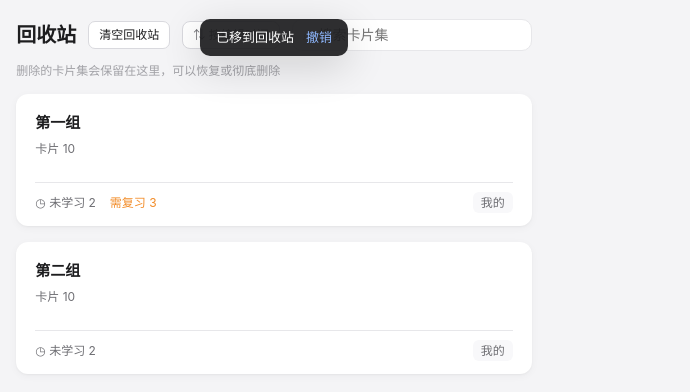
首页 › 回收站里点卡片弹出恢复 / 彻底删除
The image size is (690, 392).
Expected: the text "第一组" is shown, [35,113,80,132]
Click the element with class "deck-card" showing "第一组 卡片 10 ◷ 未学习 2 需复习 3 我的": {"x": 274, "y": 160} [16,94,532,226]
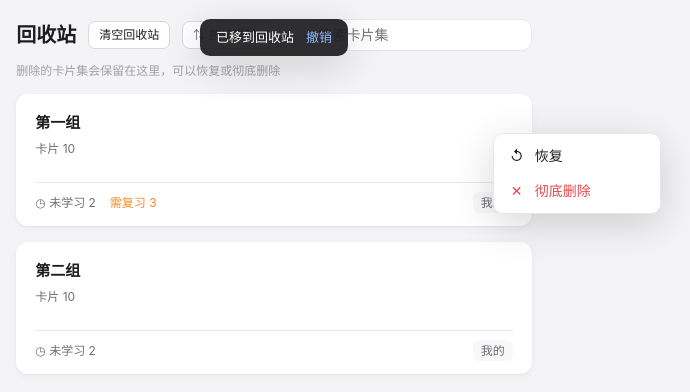
Result: the text "恢复" is shown at [535,145,563,168]
Result: the text "彻底删除" is shown at [535,180,591,202]
